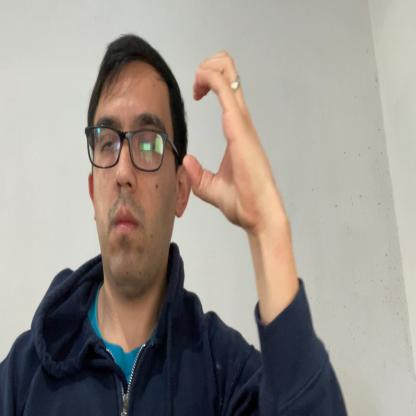C: (183, 50, 268, 232)
